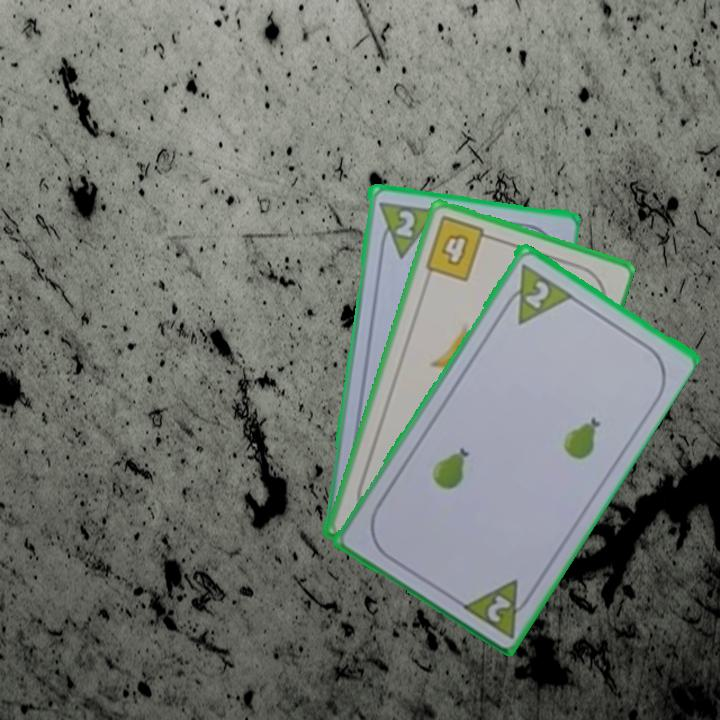2p: (456, 574, 539, 640), (374, 197, 438, 260), (520, 276, 553, 311)
4b: (421, 212, 497, 284)
